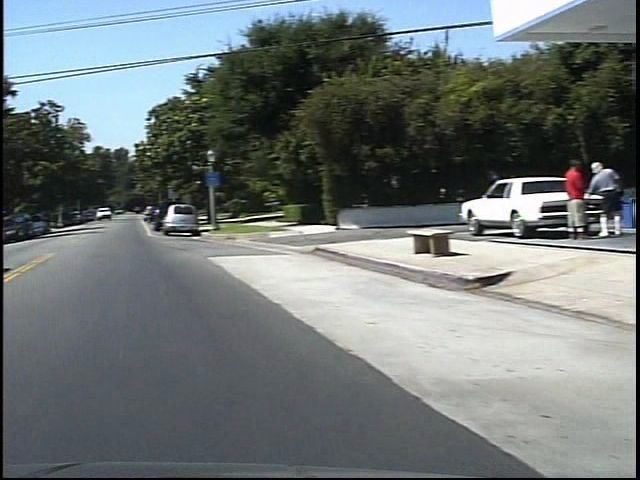person: (571, 160, 613, 245), (549, 156, 577, 245)
